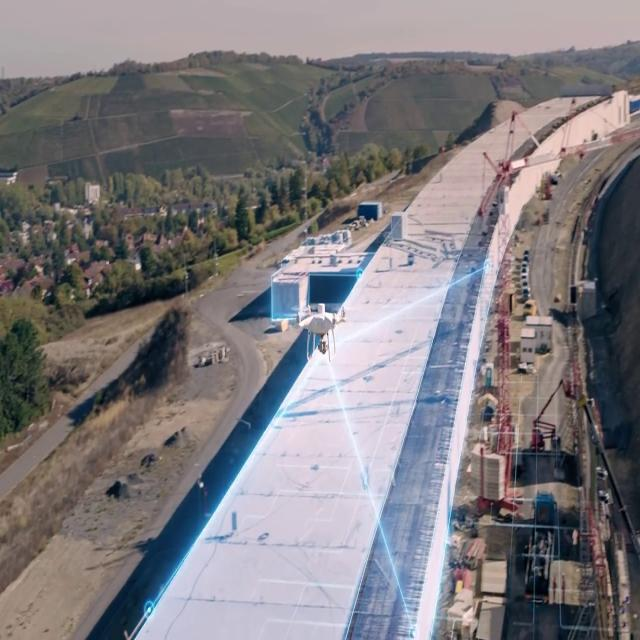drone: (294, 300, 348, 364)
